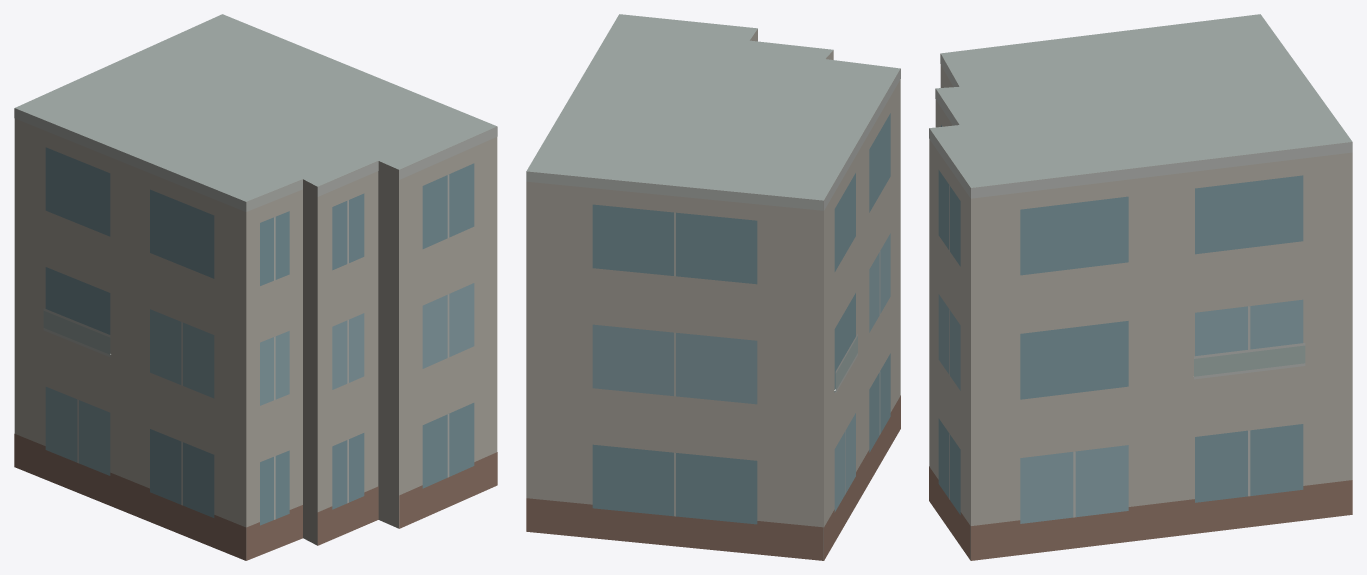
File: survey-upis-32502854.glb
3 views of the same model, side by side, from view 1: azimuth 30°, elevation 25°; view 2: azimuth 150°, elevation 25°; view 3: azimuth 270°, elevation 25° (orthographic). The views are drawn at different scales.
Parts seen in each view (by area): view 1: survey-upis-32502854.tmp; view 2: survey-upis-32502854.tmp; view 3: survey-upis-32502854.tmp.
Boxes of the visible parts, box(x1,y1,x2,y2) form: survey-upis-32502854.tmp: box(14, 14, 497, 560); survey-upis-32502854.tmp: box(526, 14, 900, 560); survey-upis-32502854.tmp: box(929, 14, 1352, 560).
Size of the model in its own units: 8.57 by 8.55 by 8.81.
